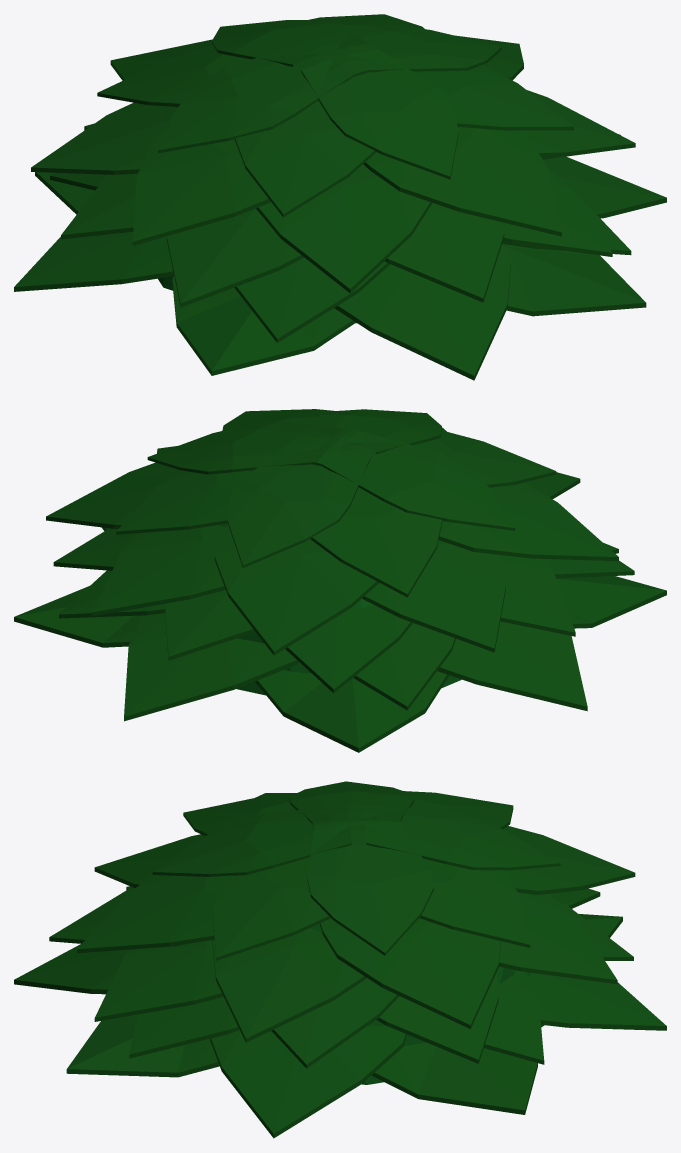
Rendered from Bush_02.obj.
The picture shows the model from 3 angles, top to bottom: view 1: azimuth 30°, elevation 25°; view 2: azimuth 150°, elevation 25°; view 3: azimuth 270°, elevation 25°; orthographic projection. The views are drawn at different scales.
Visible parts, largest first — view 1: Bush_02_Icosphere.010; view 2: Bush_02_Icosphere.010; view 3: Bush_02_Icosphere.010.
Part boxes in pixels (<box>): Bush_02_Icosphere.010: <box>14,14,666,380</box>; Bush_02_Icosphere.010: <box>14,409,666,752</box>; Bush_02_Icosphere.010: <box>14,781,666,1138</box>.
Bounding box in the file's own units: 9.91 × 3.06 × 9.99.
